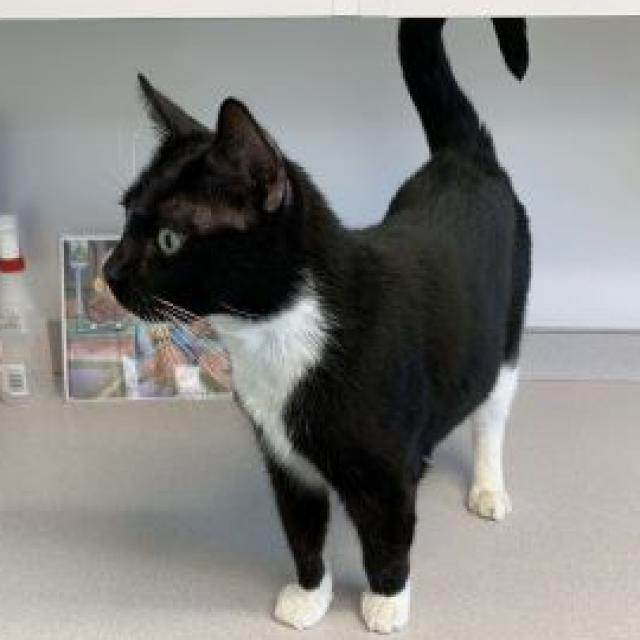Tuxedo: (99, 17, 536, 636)
